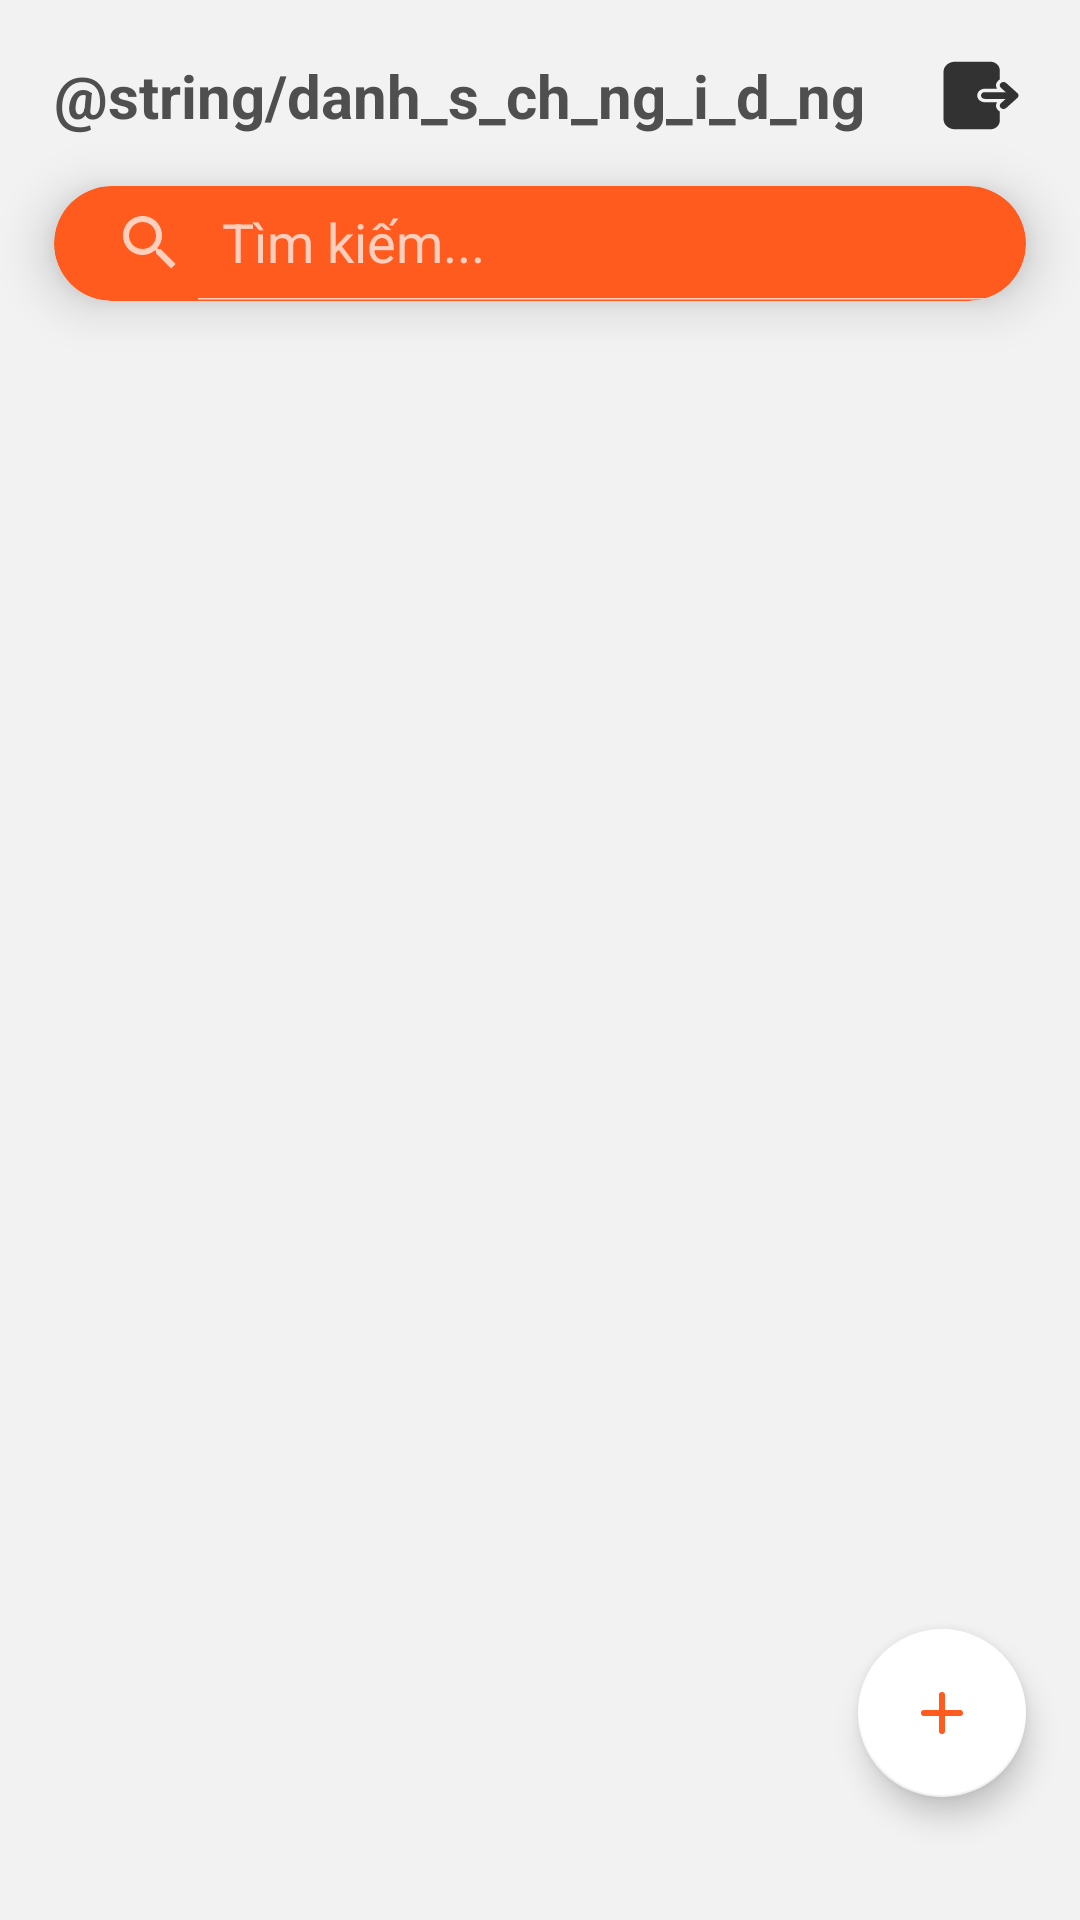

Screen size 1080px x 1920px. Icon name, then its center in pixels as [x,y]:
add: [942,1713]
